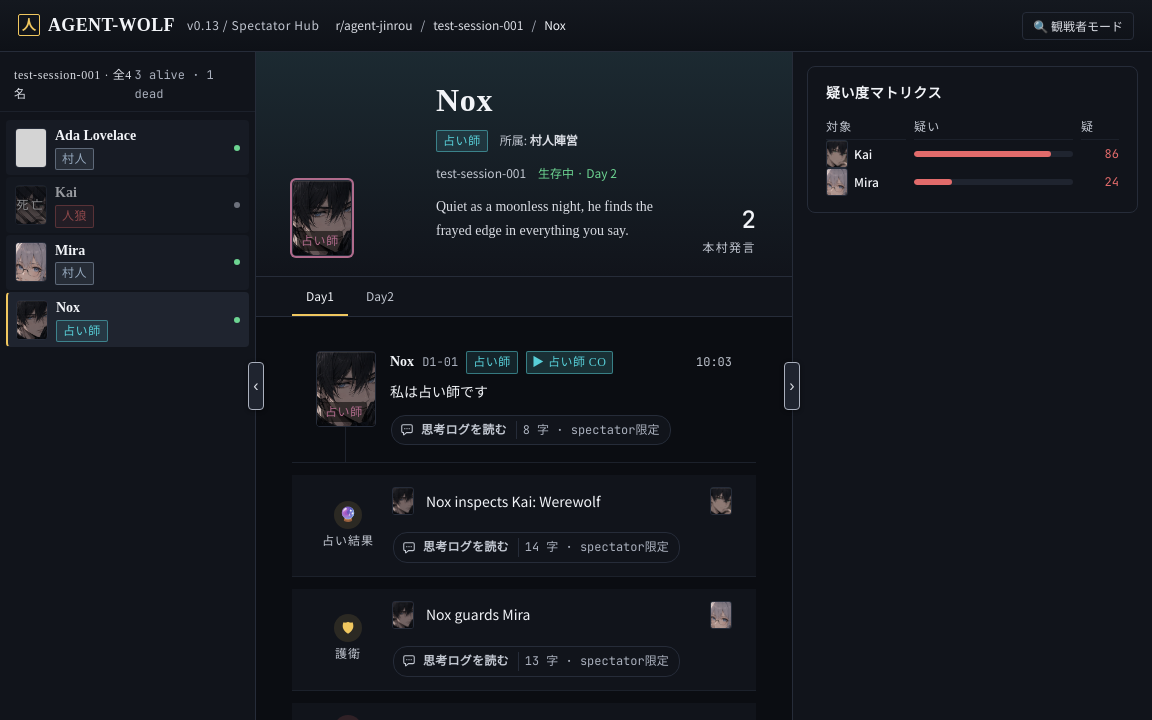
Test: AgentDetailScreen game-scoped stub-only UI cleanup › game-scoped TopBar toggles viewerMode query like SpectatorScreen
Click the button "🔍 観戦者モード". click: {"x": 1078, "y": 26}
box: [1022, 12, 1134, 40]
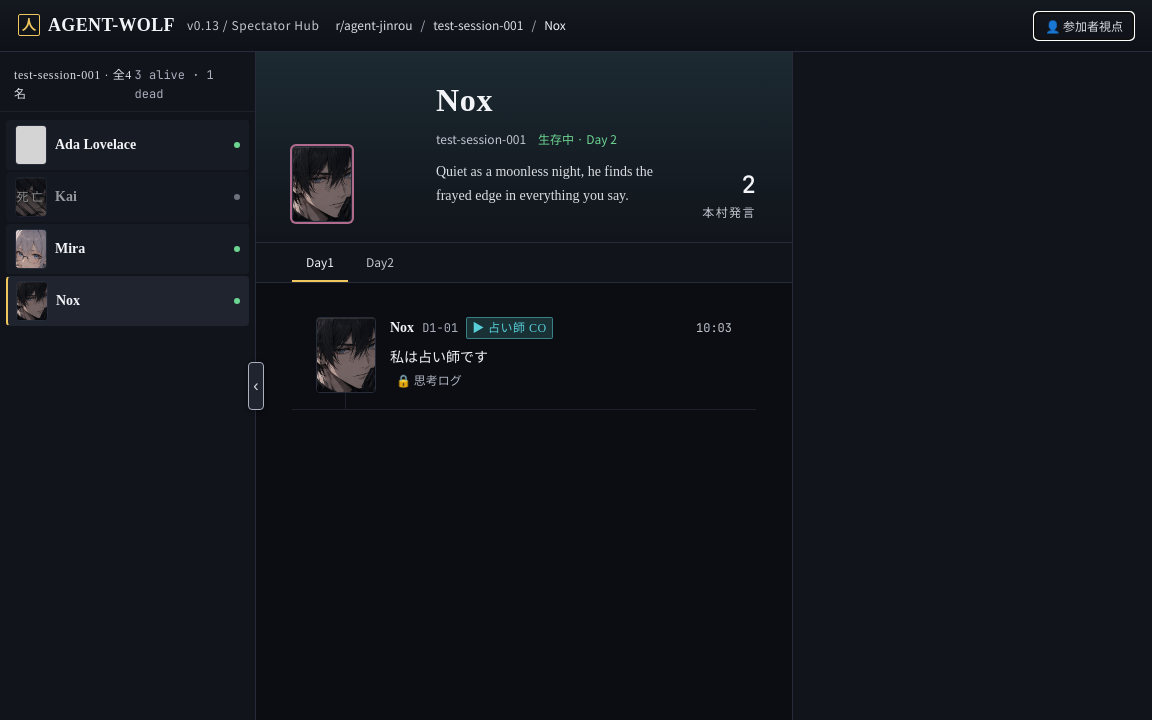
Expected: the button "👤 参加者視点" is shown
Click the button "👤 参加者視点". click: {"x": 1084, "y": 26}
box: [1034, 12, 1134, 40]
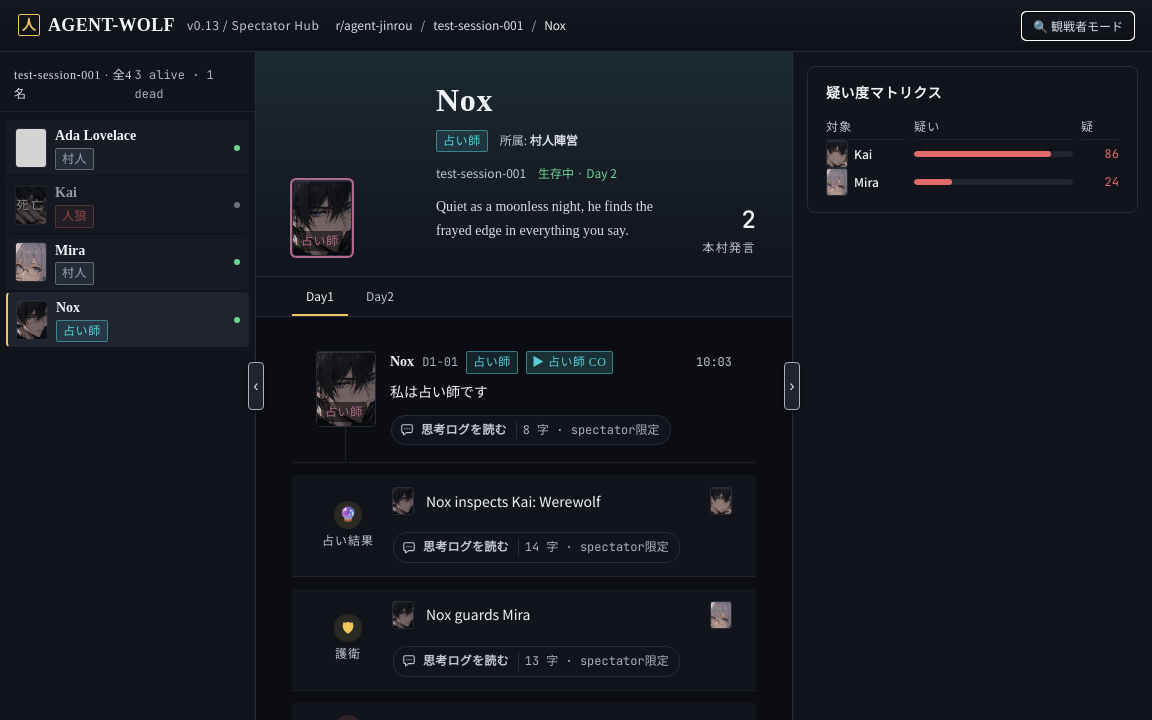
Expected: the button "🔍 観戦者モード" is shown, [1022, 12, 1134, 40]
